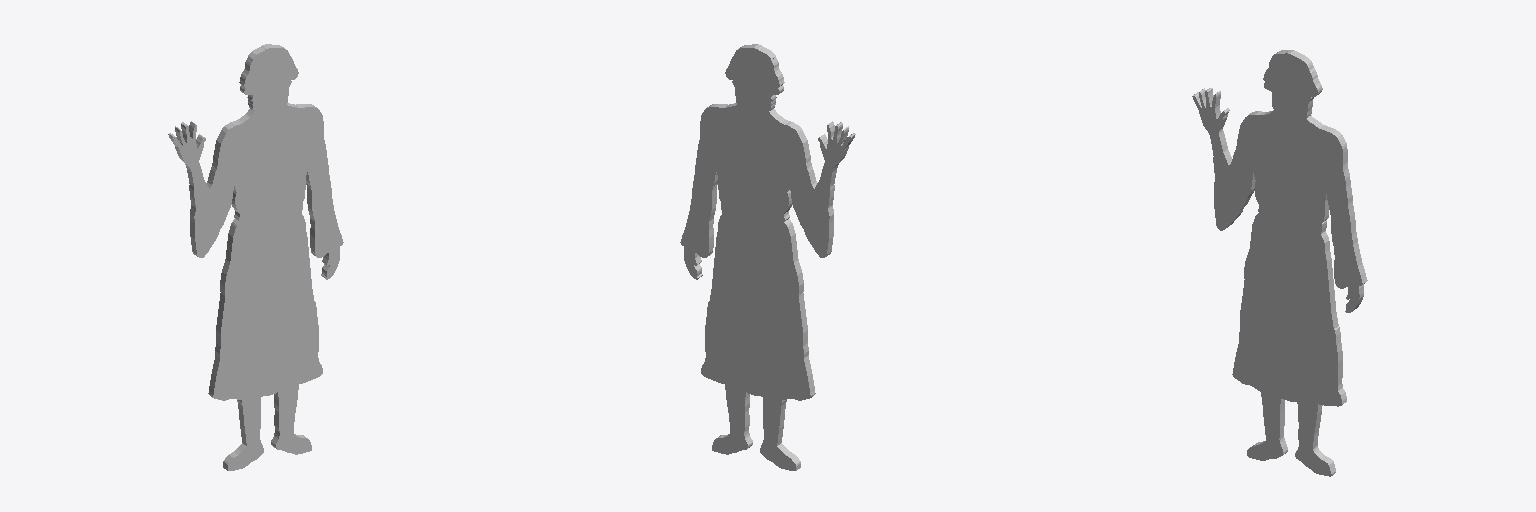
File: omero.obj
The picture shows the model from 3 angles: view 1: azimuth 30°, elevation 25°; view 2: azimuth 150°, elevation 25°; view 3: azimuth 330°, elevation 25°; orthographic projection.
Parts seen in each view (by area): view 1: Omero.537; view 2: Omero; view 3: Omero.537.
Boxes of the visible parts, <box> form: Omero.537: <box>173,48,343,470</box>; Omero: <box>680,48,850,470</box>; Omero.537: <box>1192,53,1362,476</box>.
Size of the model in its own units: 0.2255 by 0.5228 by 0.011.